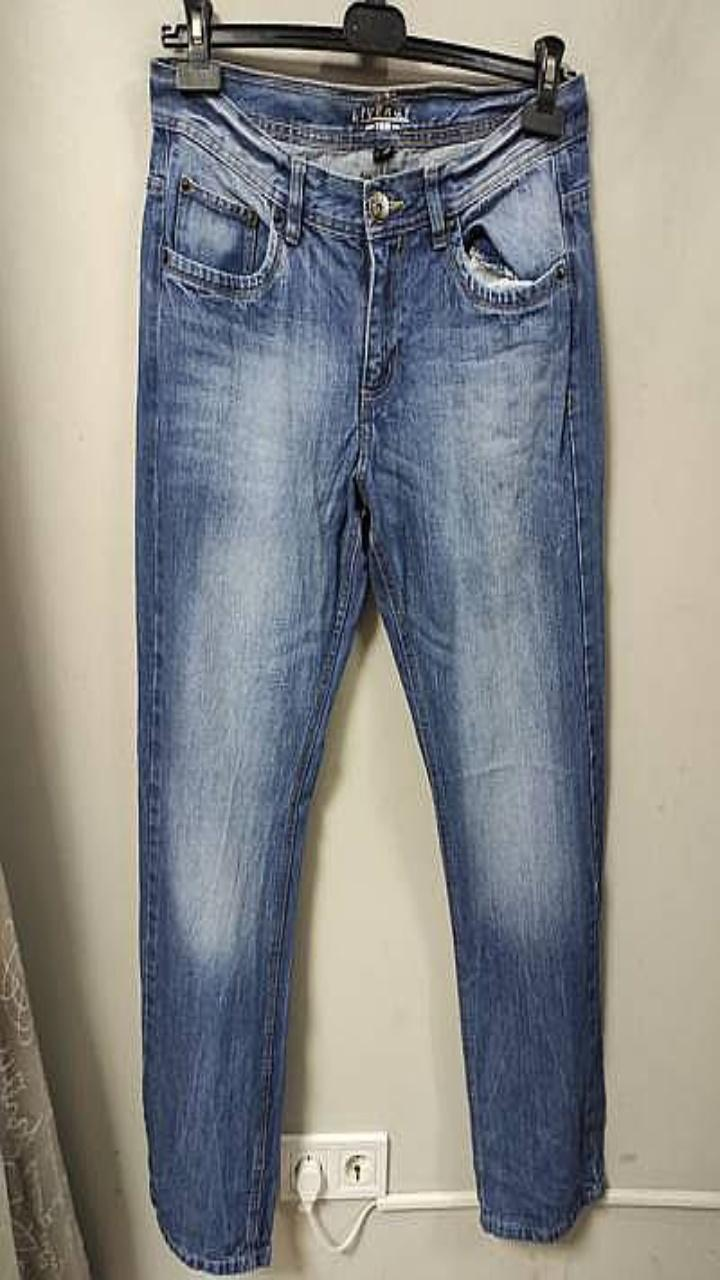Jeans: (135, 58, 604, 1273)
